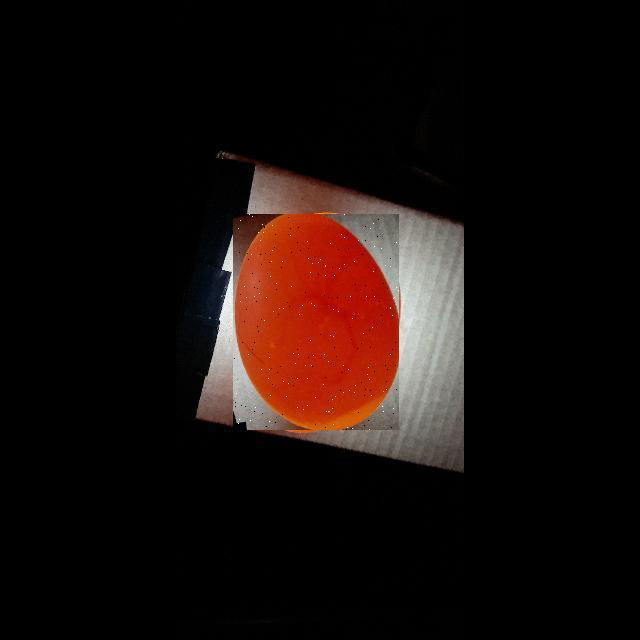Fertile: (233, 214, 399, 430)
